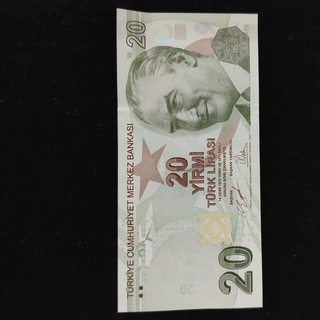20TLFront: (116, 8, 264, 312)
